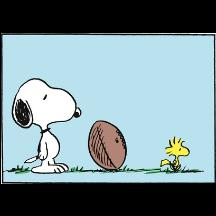snoopy: (10, 76, 82, 174)
